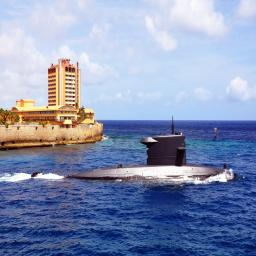submarine: (31, 113, 243, 182)
